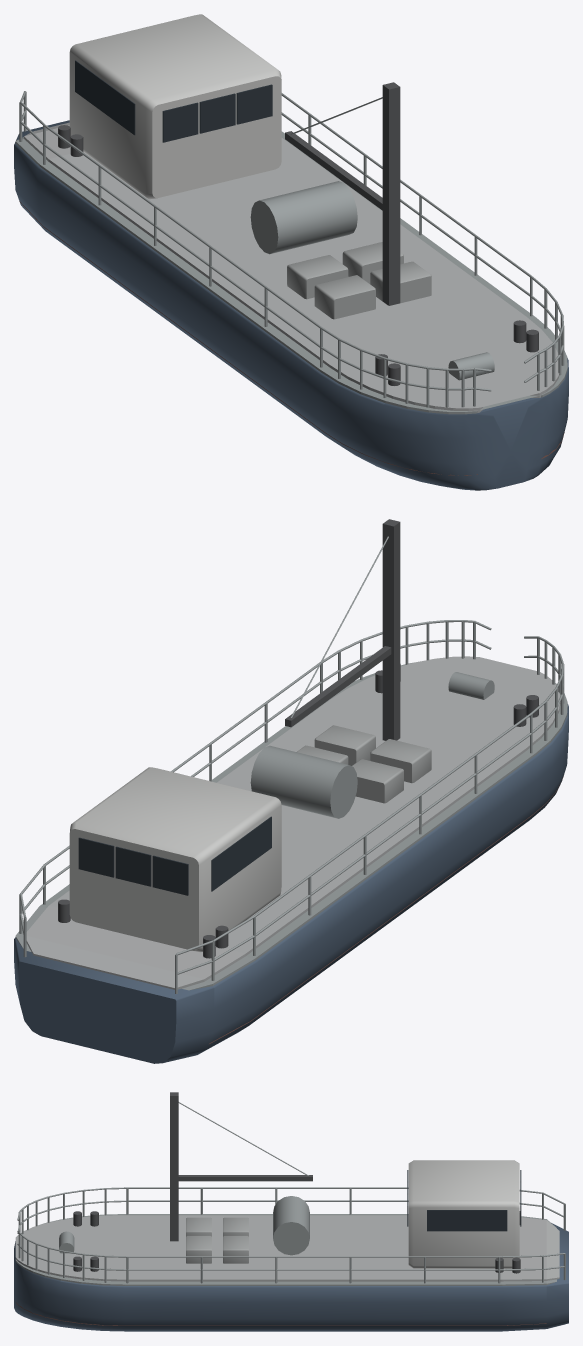
The model's file is vessel-fishing.glb.
The picture shows the model from 3 angles, top to bottom: view 1: azimuth 30°, elevation 25°; view 2: azimuth 150°, elevation 25°; view 3: azimuth 270°, elevation 25°; orthographic projection. The views are drawn at different scales.
Visible parts, largest first — view 1: vessel-fishing; view 2: vessel-fishing; view 3: vessel-fishing.
Part boxes in pixels (x1,y1,x2,y2): vessel-fishing: (14,14,568,490); vessel-fishing: (14,519,568,1063); vessel-fishing: (14,1092,568,1331).
Bounding box in the file's own units: 5.5 × 7.5 × 18.
